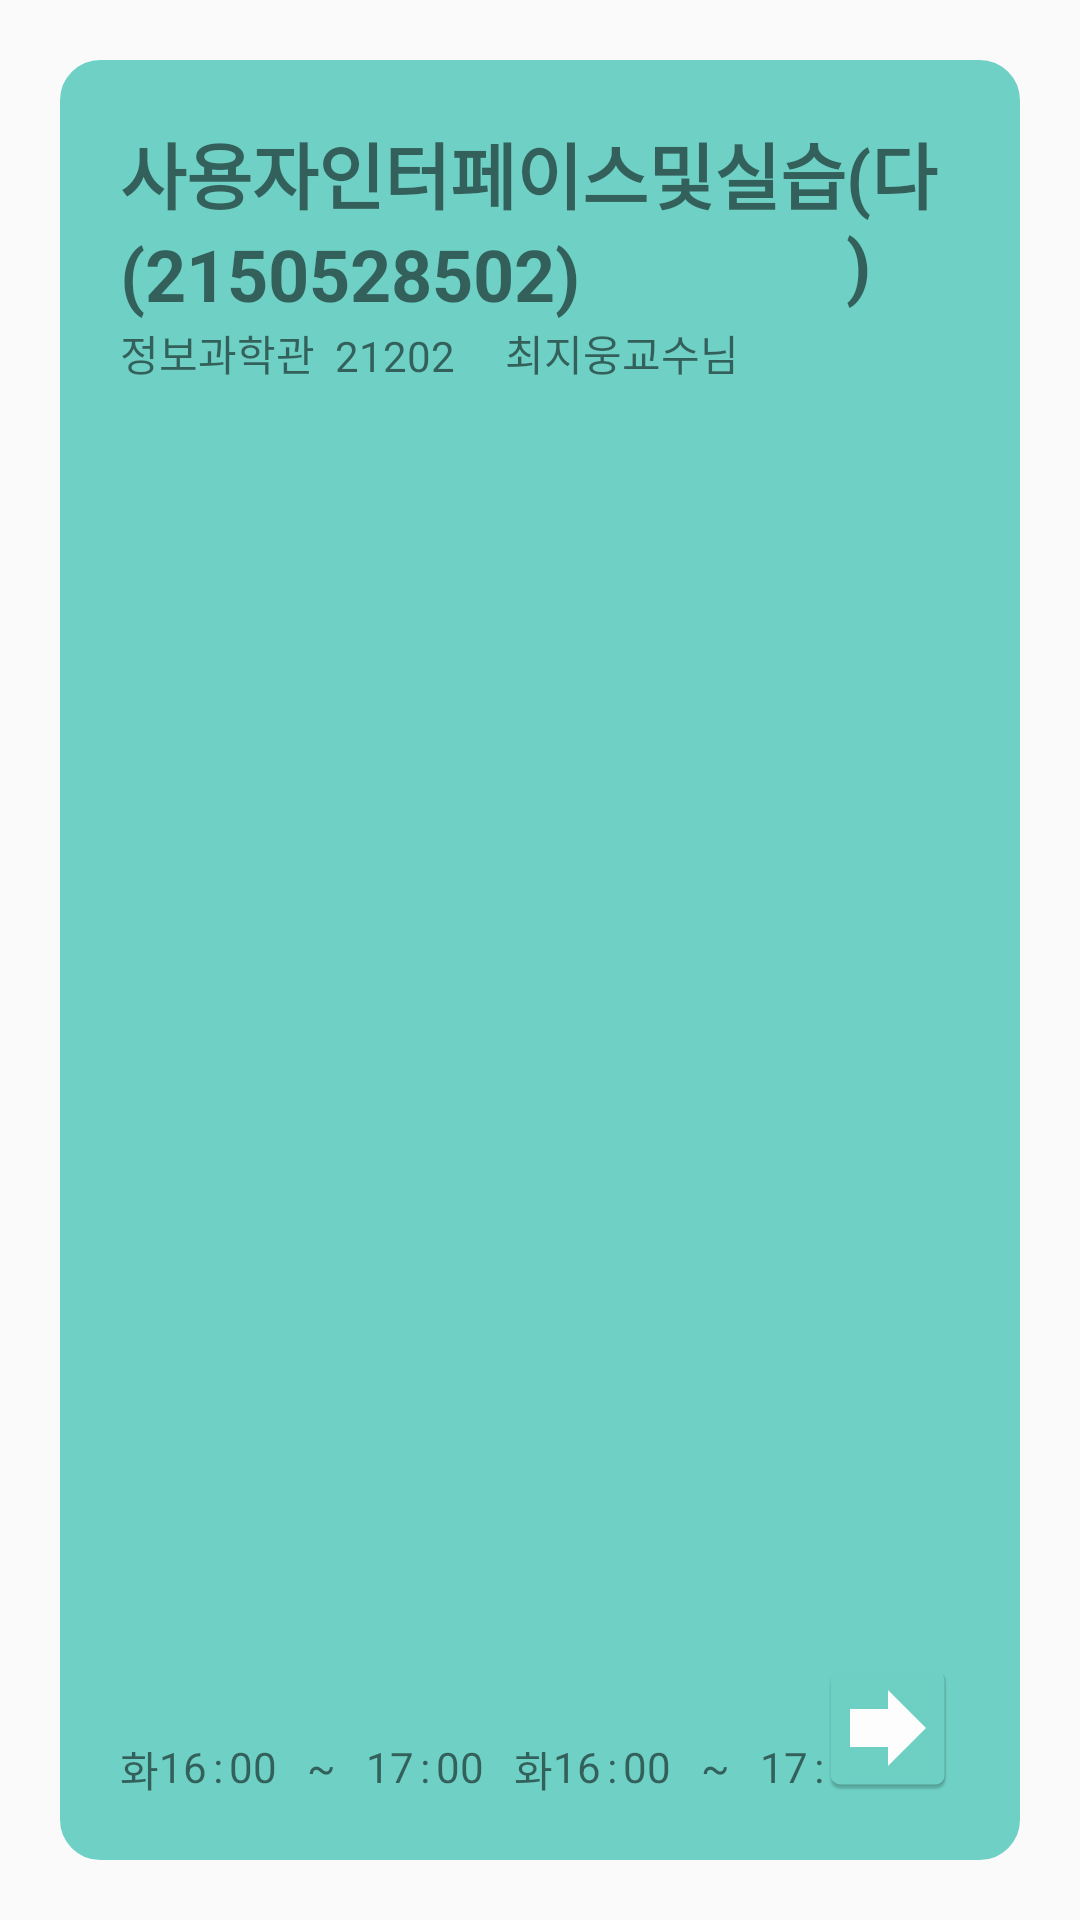

Screen size 1080x1920. Icon name, then its box in pixels as (x1, y1, x2, y2):
forward: (817, 1677, 946, 1788)
